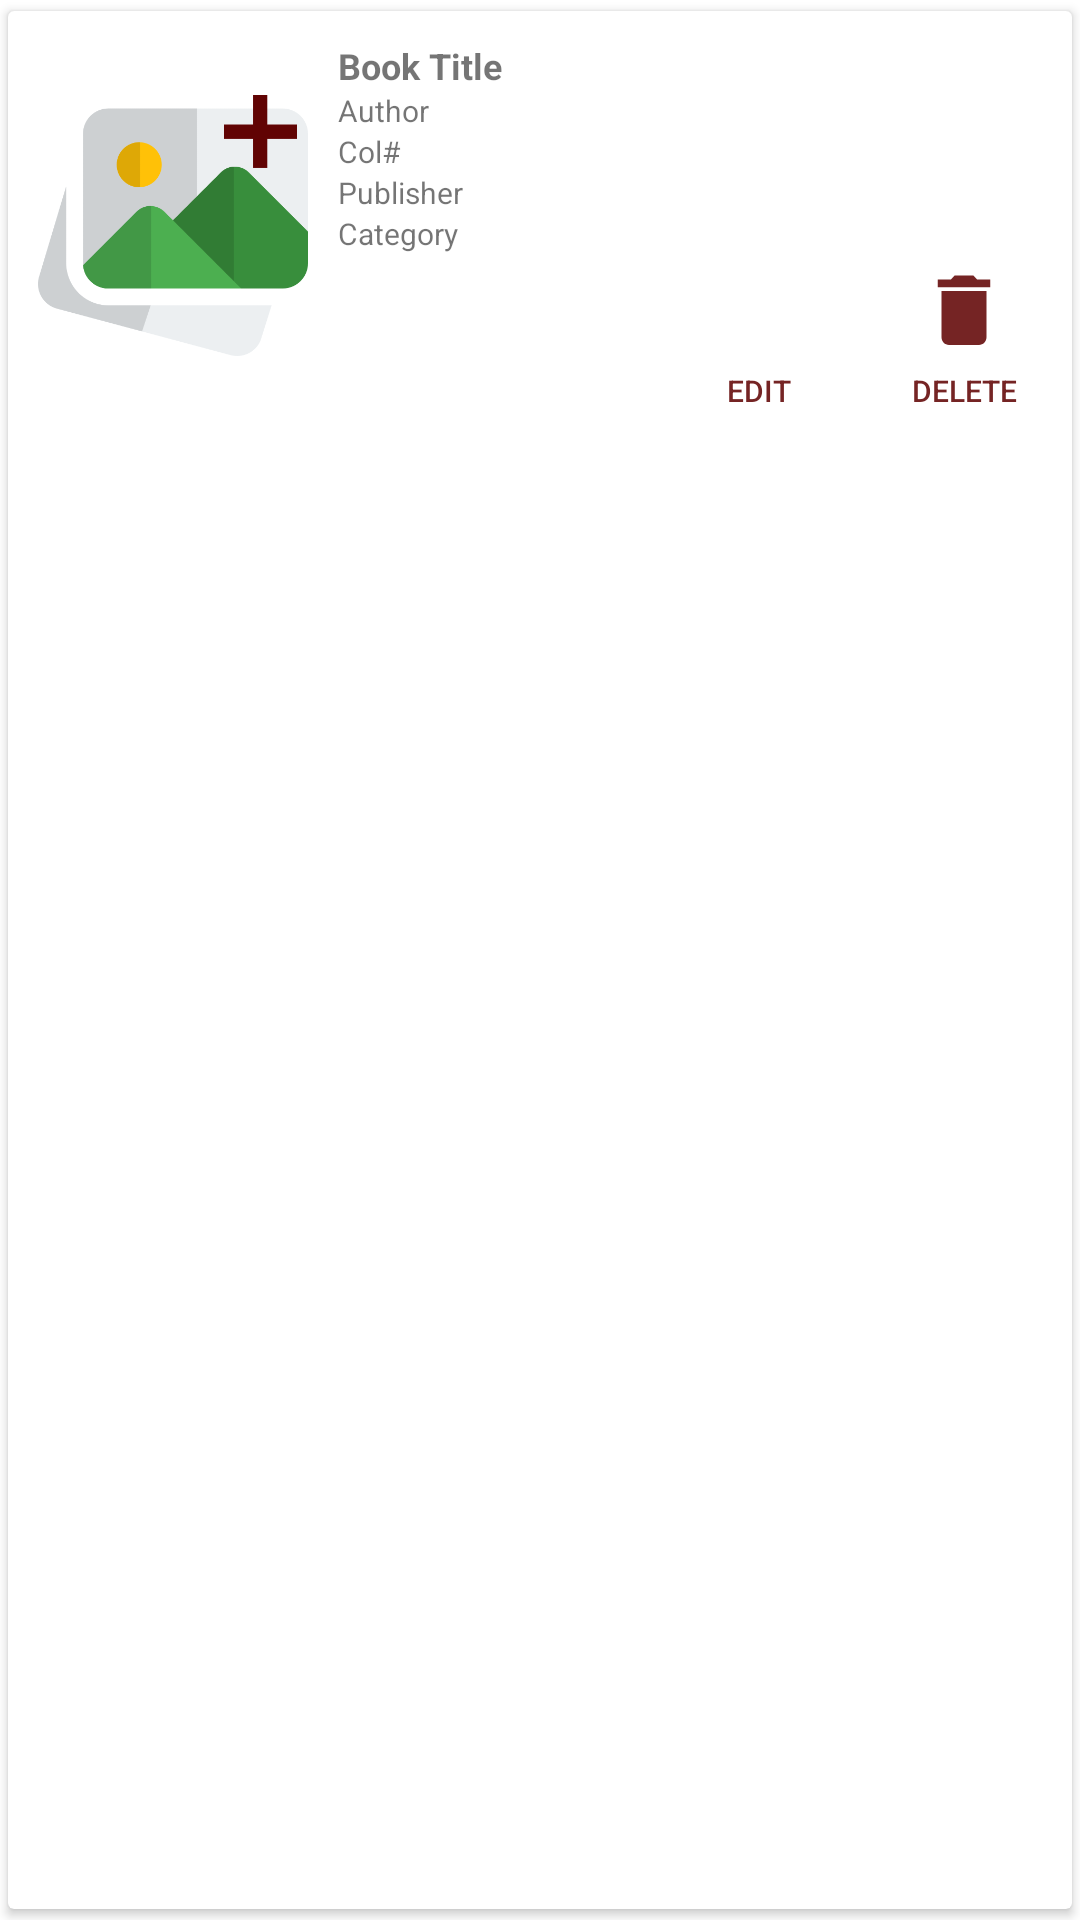

Icons on this 1080*1920 Android screen, each with its box as region(x1, y1, x2, y2):
bookimage: region(38, 95, 308, 331)
